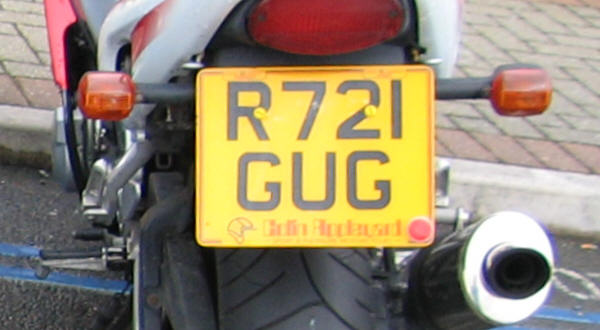license_plate: (193, 66, 436, 250)
